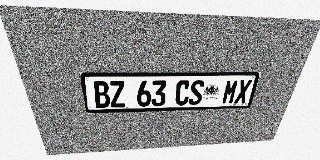3: (151, 80, 166, 106)
6: (137, 80, 151, 107)
B: (92, 81, 111, 108)
C: (175, 80, 191, 105)
M: (221, 80, 239, 104)
S: (188, 80, 205, 105)
X: (234, 79, 252, 104)
Z: (109, 81, 126, 108)
